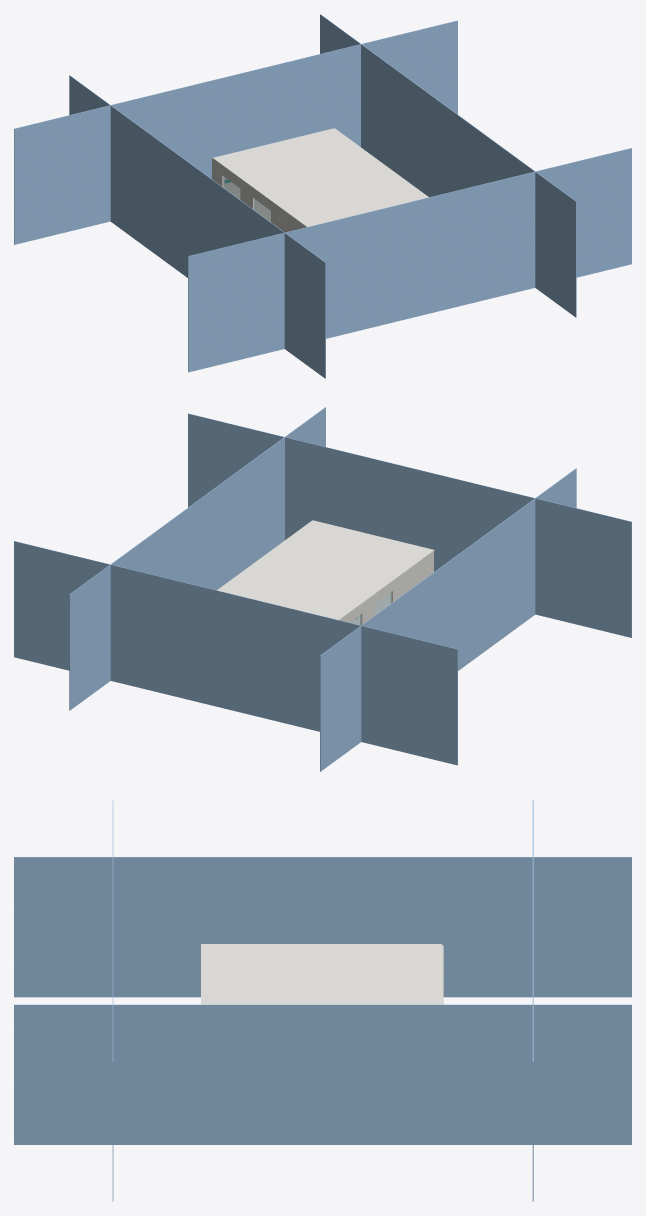
The model's file is interior.glb.
3 views of the same model, one above another, from view 1: azimuth 30°, elevation 25°; view 2: azimuth 150°, elevation 25°; view 3: azimuth 270°, elevation 25° (orthographic). The views are drawn at different scales.
Parts seen in each view (by area): view 1: Sky_Front, Sky_Back, Sky_West, Sky_East, Ceiling, Walls_W_02; view 2: Sky_Back, Sky_Front, Sky_West, Sky_East, Ceiling, Walls_W_02; view 3: Sky_East, Sky_West, Ceiling, Sky_Back, Sky_Front.
Boxes of the visible parts, x1=… form: Sky_Front: x1=188, y1=148, x2=631, y2=372; Sky_Back: x1=14, y1=20, x2=457, y2=244; Sky_West: x1=69, y1=75, x2=325, y2=378; Sky_East: x1=320, y1=14, x2=576, y2=317; Ceiling: x1=212, y1=128, x2=428, y2=227; Walls_W_02: x1=271, y1=202, x2=305, y2=232; Sky_Back: x1=14, y1=541, x2=457, y2=765; Sky_Front: x1=188, y1=413, x2=631, y2=637; Sky_West: x1=320, y1=468, x2=576, y2=771; Sky_East: x1=69, y1=407, x2=325, y2=710; Ceiling: x1=217, y1=520, x2=434, y2=620; Walls_W_02: x1=390, y1=552, x2=433, y2=603; Sky_East: x1=14, y1=1004, x2=631, y2=1144; Sky_West: x1=14, y1=857, x2=631, y2=997; Ceiling: x1=201, y1=944, x2=441, y2=1004; Sky_Back: x1=532, y1=800, x2=533, y2=1201; Sky_Front: x1=112, y1=800, x2=113, y2=1201.
Bounding box in the file's own units: 40 × 10 × 40.
22 materials, 16 textured.
